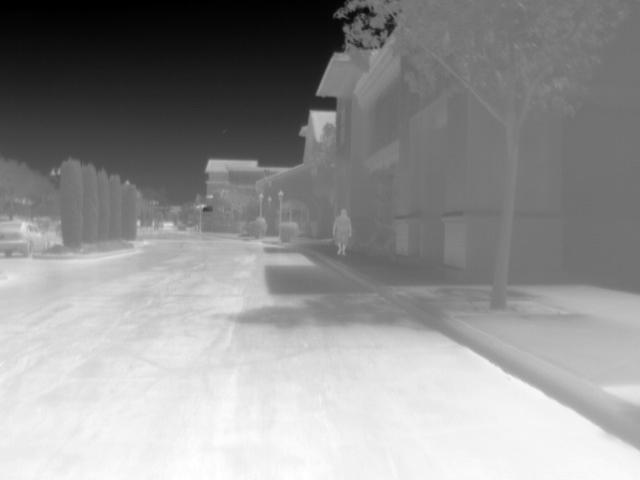car: (0, 218, 49, 260)
person: (331, 207, 355, 256)
